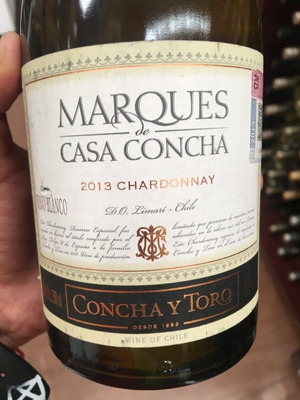marques de casa concha chardonnay: (24, 13, 276, 370)
